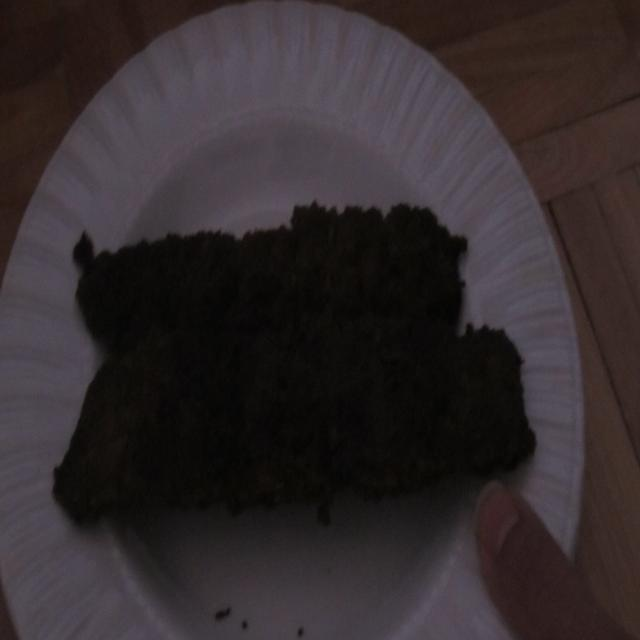cutlet: (55, 180, 496, 520)
